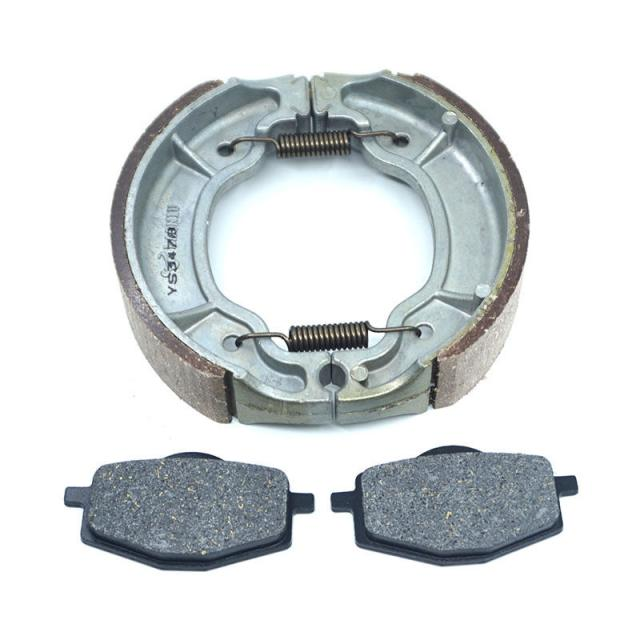brake_pad: (103, 62, 535, 432), (57, 447, 320, 576), (328, 440, 583, 572)
